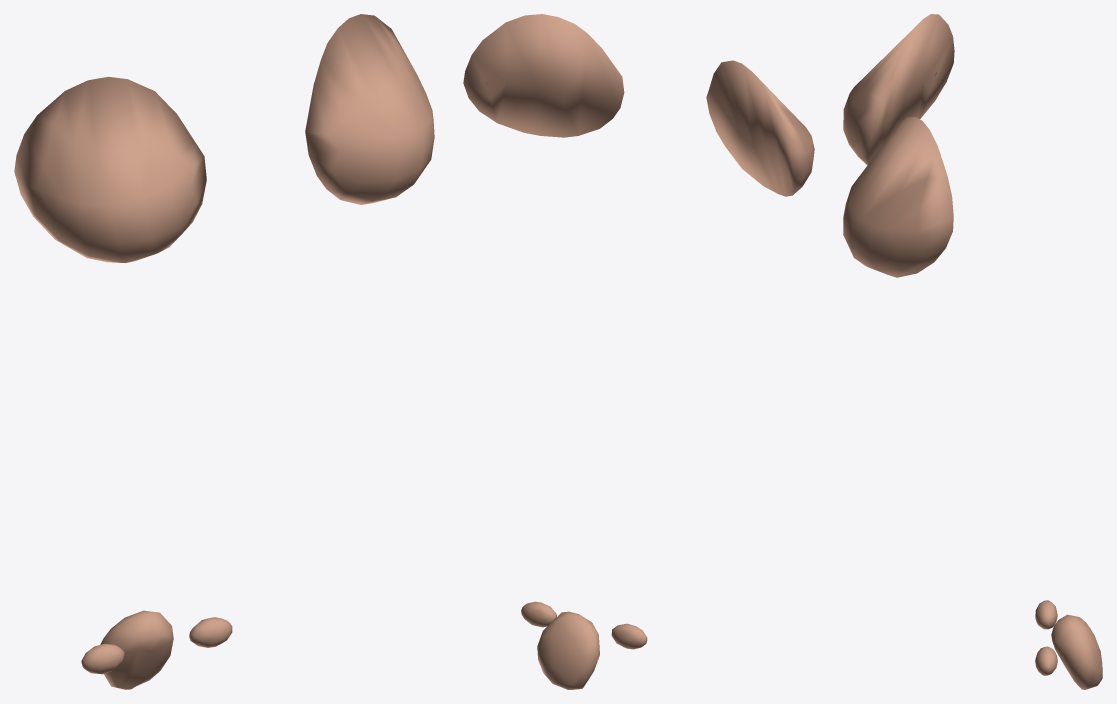
Rendered from pediatric_adolescent_female.reproductive.LOD2.glb.
The picture shows the model from 3 angles, left to right: view 1: azimuth 30°, elevation 25°; view 2: azimuth 150°, elevation 25°; view 3: azimuth 270°, elevation 25°; orthographic projection. The views are drawn at different scales.
Visible parts, largest first — view 1: PEDIATRIC.ADOLESCENT.FEMALE.REPRODUCTIVE.BREAST_ADIPOSE_TISS (×2), PEDIATRIC.ADOLESCENT.FEMALE.REPRODUCTIVE.UTERUS, PEDIATRIC.ADOLESCENT.FEMALE.REPRODUCTIVE.OVARY.L, PEDIATRIC.ADOLESCENT.FEMALE.REPRODUCTIVE.OVARY.R; view 2: PEDIATRIC.ADOLESCENT.FEMALE.REPRODUCTIVE.BREAST_ADIPOSE_TISS (×2), PEDIATRIC.ADOLESCENT.FEMALE.REPRODUCTIVE.UTERUS, PEDIATRIC.ADOLESCENT.FEMALE.REPRODUCTIVE.OVARY.R, PEDIATRIC.ADOLESCENT.FEMALE.REPRODUCTIVE.OVARY.L; view 3: PEDIATRIC.ADOLESCENT.FEMALE.REPRODUCTIVE.BREAST_ADIPOSE_TISS (×2), PEDIATRIC.ADOLESCENT.FEMALE.REPRODUCTIVE.UTERUS, PEDIATRIC.ADOLESCENT.FEMALE.REPRODUCTIVE.OVARY.L, PEDIATRIC.ADOLESCENT.FEMALE.REPRODUCTIVE.OVARY.R.
Boxes of the visible parts, <box> form: PEDIATRIC.ADOLESCENT.FEMALE.REPRODUCTIVE.BREAST_ADIPOSE_TISS (×2): <box>14,14,434,262</box>; PEDIATRIC.ADOLESCENT.FEMALE.REPRODUCTIVE.UTERUS: <box>100,610,173,689</box>; PEDIATRIC.ADOLESCENT.FEMALE.REPRODUCTIVE.OVARY.L: <box>189,617,232,647</box>; PEDIATRIC.ADOLESCENT.FEMALE.REPRODUCTIVE.OVARY.R: <box>81,643,124,674</box>; PEDIATRIC.ADOLESCENT.FEMALE.REPRODUCTIVE.BREAST_ADIPOSE_TISS (×2): <box>463,14,814,196</box>; PEDIATRIC.ADOLESCENT.FEMALE.REPRODUCTIVE.UTERUS: <box>537,611,599,689</box>; PEDIATRIC.ADOLESCENT.FEMALE.REPRODUCTIVE.OVARY.R: <box>611,623,647,649</box>; PEDIATRIC.ADOLESCENT.FEMALE.REPRODUCTIVE.OVARY.L: <box>521,601,556,627</box>; PEDIATRIC.ADOLESCENT.FEMALE.REPRODUCTIVE.BREAST_ADIPOSE_TISS (×2): <box>843,14,954,277</box>; PEDIATRIC.ADOLESCENT.FEMALE.REPRODUCTIVE.UTERUS: <box>1051,614,1102,689</box>; PEDIATRIC.ADOLESCENT.FEMALE.REPRODUCTIVE.OVARY.L: <box>1035,646,1057,675</box>; PEDIATRIC.ADOLESCENT.FEMALE.REPRODUCTIVE.OVARY.R: <box>1035,600,1057,629</box>.
Bounding box in the file's own units: 0.2496 × 0.4291 × 0.1628.
